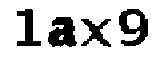1: (14, 7, 42, 51)
9: (119, 6, 151, 50)
a: (48, 14, 79, 49)
x: (81, 15, 114, 49)
